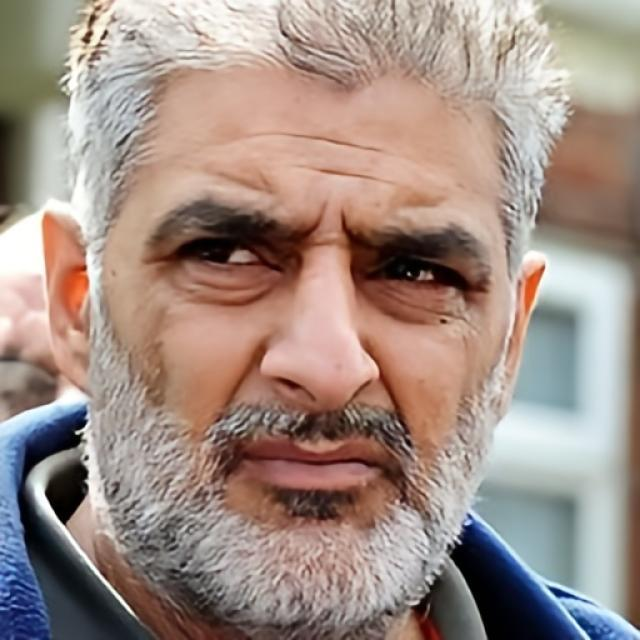disgust: (90, 33, 516, 640)
